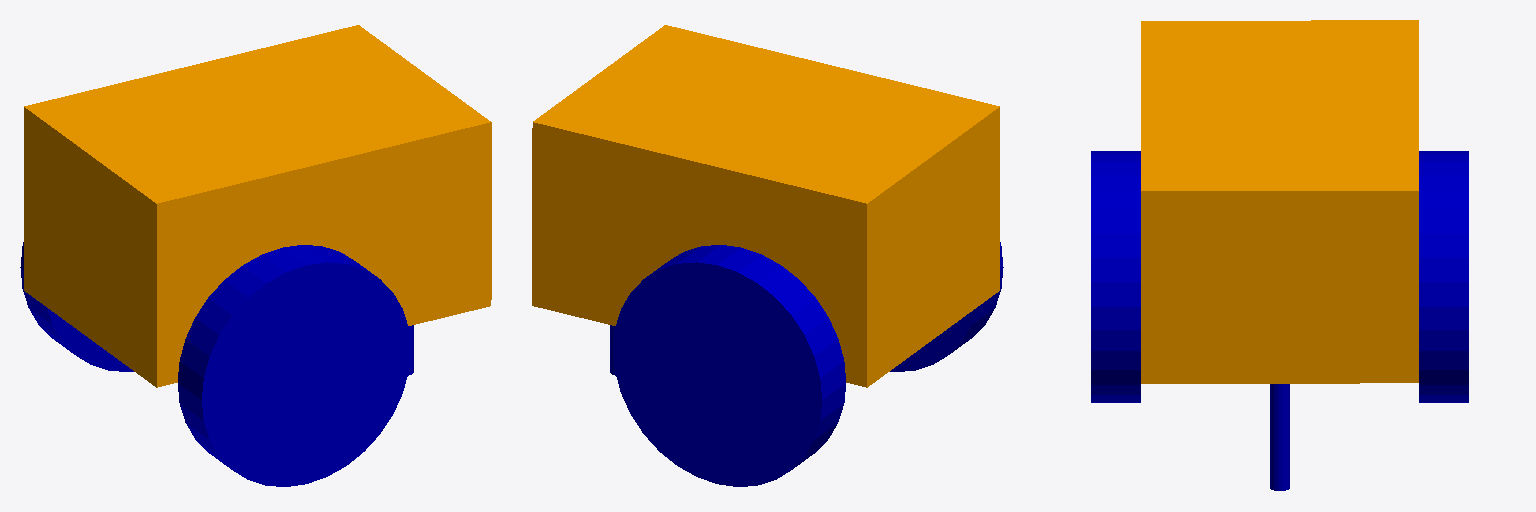
URDF robot description (aubo_i5):
<?xml version="1.0"?>
<robot name="aubo_i5">

<material name="black">
<color rgba="0.25098 0.25098 0.25098 1"/>
</material>

<material name="orange">
<color rgba="1 0.65098 0 1"/>
</material>

<material name="white">
<color rgba="0.68627 0.69804 0.67451 1"/>
</material>

<material name="grey">
<color rgba="0.2 0.2 0.2 1.0"/>
</material>

<material name="blue">
<color rgba="0.0 0.0 0.8 1.0"/>
</material>

<material name="green">
<color rgba="0.0 0.8 0.0 1.0"/>
</material>

<!-- MOVING_BASE_LINK -->
<link
    name="moving_base_Link">
    <inertial>
      <origin
        xyz="0 0 0"
        rpy="0 0 0" />
      <mass
        value="125" />
      <inertia
        ixx="8.504167"
        ixy="0"
        ixz="0"
        iyy="4.988541"
        iyz="0"
        izz="9.817708" />
    </inertial>
    <visual>
      <origin
        xyz="0 0 0"
        rpy="1.571 0 0" />
      <geometry>
        <mesh
          filename="package://urdf_tutorial/meshes/Part1.STL" />
      </geometry>
      <material name="orange"/>
    </visual>
    <collision>
      <origin
        xyz="0 0 0"
        rpy="0 0 0" />
      <geometry>
      <box size="0.8 0.55 0.42"/>
      </geometry>
    </collision>
</link>

  <joint name="base_to_base_joint" type="fixed">
    <parent link="moving_base_Link"/>
    <child link="base_Link"/>
    <origin rpy="0 0 0" xyz="0.4 -0.275 0.42"/>
  </joint>

<!-- LEFT WHEEL -->
<link
    name="left_wheel_Link">

    <inertial>
      <origin
        xyz="0 0 0"
        rpy="1.571 0 0" />
      <mass
        value="1.5" />
      <inertia
        ixx="0.0164583"
        ixy="0"
        ixz="0"
        iyy="0.046875"
        iyz="0"
        izz="0.0164583" />
    </inertial>

    <visual>
      <origin
        xyz="0.0 0.0 0.0"
        rpy="1.571 0 0" />
      <geometry>
        <cylinder length="0.1" radius="0.25"/>
      </geometry>
      <material name="blue"/>
    </visual>
    <collision>
      <origin
        xyz="0 0 0"
        rpy="0 0 0" />
      <geometry>
	<cylinder length="0.1" radius="0.25"/>
      </geometry>
    </collision>
</link>

  <joint name="base_to_left_wheel_joint" type="continuous">
    <axis
      xyz="0.0 1.0 0" />
    <limit
      lower="-3.05"
      upper="3.05"
      effort="145.0"
      velocity="3.30" />
    <parent link="moving_base_Link"/>
    <child link="left_wheel_Link"/>
    <origin rpy="0 0 0" xyz="0.3 -0.6 0.0"/>
  </joint>

<!-- STAND -->
<link
    name="stand_Link">
    <visual>
      <origin
        xyz="0 0 0"
        rpy="0 0 0" />
      <geometry>
	<cylinder length="0.25" radius="0.02"/>
      </geometry>
      <material name="blue"/>
    </visual>
    <collision>
      <origin
        xyz="0 0 0"
        rpy="0 0 0" />
      <geometry>
	<cylinder length="0.25" radius="0.05"/>
      </geometry>
    </collision>
</link>

  <joint name="base_to_stand_joint" type="fixed">
    <parent link="moving_base_Link"/>
    <child link="stand_Link"/>
    <origin rpy="0 0 0" xyz="0.75 -0.275 -0.125"/>
  </joint>

<!-- RIGHT WHEEL -->
<link
    name="right_wheel_Link">
    <inertial>
      <origin
        xyz="0 0 0"
        rpy="1.571 0 0" />
      <mass
        value="1.5" />
      <inertia
        ixx="0.0164583"
        ixy="0"
        ixz="0"
        iyy="0.046875"
        iyz="0"
        izz="0.0164583" />
    </inertial>
    <visual>
      <origin
        xyz="0 0 0"
        rpy="1.571 0 0" />
      <geometry>
	<cylinder length="0.1" radius="0.25"/>
      </geometry>
      <material name="blue"/>
    </visual>
    <collision>
      <origin
        xyz="0 0 0"
        rpy="0 0 0" />
      <geometry>
	<cylinder length="0.1" radius="0.25"/>
      </geometry>
    </collision>
</link>

  <joint name="base_to_right_wheel_joint" type="continuous">
    <axis
      xyz="0 1.0 0" />
    <limit
      lower="-3.05"
      upper="3.05"
      effort="145.0"
      velocity="3.30" />
    <parent link="moving_base_Link"/>
    <child link="right_wheel_Link"/>
    <origin rpy="0 0 0" xyz="0.3 0.05 0.0"/>
  </joint>

<!-- BASE_LINK -->
<link
    name="base_Link">
    <inertial>
      <origin
        xyz="1.3658E-09 -0.00014692 0.01035"
        rpy="0 0 0" />
      <mass
        value="4.3712" />
      <inertia
        ixx="0.00079449"
        ixy="6.5327E-11"
        ixz="-9.6404E-12"
        iyy="0.00079389"
        iyz="1.3115E-06"
        izz="0.0015561" />
    </inertial>
    <visual>
      <origin
        xyz="0 0 0"
        rpy="0 0 0" />
      <geometry>
        <mesh
          filename="package://urdf_tutorial/meshes/base_Link.STL" />
      </geometry>
      <material name="blue"/>
    </visual>
    <collision>
      <origin
        xyz="0 0 0"
        rpy="0 0 0" />
      <geometry>
        <mesh
          filename="package://urdf_tutorial/meshes/base_Link.STL" />
      </geometry>
    </collision>
</link>


<!-- LINK 1 -->
  <link
    name="shoulder_Link">
    <inertial>
      <origin
        xyz="4.2237E-07 0.0063705 -0.014748"
        rpy="0 0 0" />
      <mass
        value="1.4505" />
      <inertia
        ixx="0.0032429"
        ixy="-5.7406E-08"
        ixz="1.9098E-08"
        iyy="0.0031222"
        iyz="0.0002489"
        izz="0.0027718" />
    </inertial>
    <visual>
      <origin
        xyz="0 0 0"
        rpy="0 0 0" />
      <geometry>
        <mesh
          filename="package://urdf_tutorial/meshes/shoulder_Link.STL" />
      </geometry>
      <material name="orange"/>
    </visual>
    <collision>
      <origin
        xyz="0 0 0"
        rpy="0 0 0" />
      <geometry>
        <mesh
          filename="package://urdf_tutorial/meshes/shoulder_Link.STL" />
      </geometry>
    </collision>
</link>

<!-- JOINT: BASE and LINK 1 -->
  <joint
    name="shoulder_joint"
    type="revolute">
    <origin
      xyz="0 0 0.0985"
      rpy="4.1891E-27 1.7441E-42 3.1416" />
    <parent
      link="base_Link" />
    <child
      link="shoulder_Link" />
    <axis
      xyz="0 0 1" />
    <limit
      lower="-3.05"
      upper="3.05"
      effort="145.0"
      velocity="3.30" />
    <dynamics damping="0.0" friction="0.0"/>
</joint>

<!-- LINK &  JOINT 2 -->
<link
    name="s_Link">
    <inertial>
      <origin
        xyz="2.75454867338328E-06 -0.00487873094196599 0.0702855243047658"
        rpy="0 0 0" />
      <mass
        value="0.0933502565288893" />
      <inertia
        ixx="0.00011727398240241"
        ixy="-3.14883393254388E-09"
        ixz="1.43188514648947E-09"
        iyy="0.000120548307556286"
        iyz="1.4054946074709E-05"
        izz="0.000204650958658107" />
    </inertial>
    <visual>
      <origin
        xyz="0 0 0"
        rpy="0 0 0" />
      <geometry>
        <mesh
          filename="package://urdf_tutorial/meshes/s_Link.STL" />
      </geometry>
      <material name="black"/>
    </visual>
    <collision>
      <origin
        xyz="0 0 0"
        rpy="0 0 0" />
      <geometry>
        <mesh
          filename="package://urdf_tutorial/meshes/s_Link.STL" />
      </geometry>
    </collision>
  </link>
  <joint
    name="s_joint"
    type="fixed">
    <origin
      xyz="0 0 0"
      rpy="0 0 0" />
    <parent
      link="shoulder_Link" />
    <child
      link="s_Link" />
    <axis
      xyz="0 0 0" />
</joint>


<!-- LINK &  JOINT 3 -->
<link
    name="upperArm_Link">
    <inertial>
      <origin
        xyz="0.204 4.917E-09 -0.01129"
        rpy="0 0 0" />
      <mass
        value="3.7898" />
      <inertia
        ixx="0.0077566"
        ixy="3.5945E-07"
        ixz="-2.0497E-09"
        iyy="0.13195"
        iyz="-2.5238E-09"
        izz="0.13086" />
    </inertial>
    <visual>
      <origin
        xyz="0 0 0"
        rpy="0 0 0" />
      <geometry>
        <mesh
          filename="package://urdf_tutorial/meshes/upperArm_Link.STL" />
      </geometry>
      <material name="orange"/>
    </visual>
    <collision>
      <origin
        xyz="0 0 0"
        rpy="0 0 0" />
      <geometry>
        <mesh
          filename="package://urdf_tutorial/meshes/upperArm_Link.STL" />
      </geometry>
    </collision>
  </link>
  <joint
    name="upperArm_joint"
    type="revolute">
    <origin
      xyz="0 0.1405 0"
      rpy="-1.5708 -1.5708 0" />
    <parent
      link="shoulder_Link" />
    <child
      link="upperArm_Link" />
    <axis
      xyz="0 0 1" />
    <limit
      lower="-3.05"
      upper="3.05"
      effort="145.0"
      velocity="3.30" />
    <dynamics damping="0.0" friction="0.0"/>
</joint>

<link
    name="f1_Link">
    <inertial>
      <origin
        xyz="0.204000000000002 2.13762226476002E-16 0.0702855243047657"
        rpy="0 0 0" />
      <mass
        value="0.186700513057778" />
      <inertia
        ixx="0.000241096616529171"
        ixy="1.13718913108594E-07"
        ixz="-4.1181754464369E-18"
        iyy="0.00838035188527625"
        iyz="-2.06956333395978E-19"
        izz="0.00855510583920424" />
    </inertial>
    <visual>
      <origin
        xyz="0 0 0"
        rpy="0 0 0" />
      <geometry>
        <mesh
          filename="package://urdf_tutorial/meshes/f1_Link.STL" />
      </geometry>
      <material name="black"/>
    </visual>
    <collision>
      <origin
        xyz="0 0 0"
        rpy="0 0 0" />
      <geometry>
        <mesh
          filename="package://urdf_tutorial/meshes/f1_Link.STL" />
      </geometry>
    </collision>
  </link>
  <joint
    name="f1_joint"
    type="fixed">
    <origin
      xyz="0 0 0"
      rpy="0 0 2.18831867488968E-33" />
    <parent
      link="upperArm_Link" />
    <child
      link="f1_Link" />
    <axis
      xyz="0 0 0" />
  </joint>
  <link
    name="foreArm_Link">
    <inertial>
      <origin
        xyz="0.18437 7.5869E-07 0.11576"
        rpy="0 0 0" />
      <mass
        value="2.2177" />
      <inertia
        ixx="0.00195"
        ixy="-4.753E-07"
        ixz="0.0001589"
        iyy="0.042245"
        iyz="-1.9564E-08"
        izz="0.042131" />
    </inertial>
    <visual>
      <origin
        xyz="0 0 0"
        rpy="0 0 0" />
      <geometry>
        <mesh
          filename="package://urdf_tutorial/meshes/foreArm_Link.STL" />
      </geometry>
      <material name="orange"/>
    </visual>
    <collision>
      <origin
        xyz="0 0 0"
        rpy="0 0 0" />
      <geometry>
        <mesh
          filename="package://urdf_tutorial/meshes/foreArm_Link.STL" />
      </geometry>
    </collision>
  </link>
  <joint
    name="foreArm_joint"
    type="revolute">
    <origin
      xyz="0.408 0 0"
      rpy="-3.1416 0 2.1883E-33" />
    <parent
      link="upperArm_Link" />
    <child
      link="foreArm_Link" />
    <axis
      xyz="0 0 1" />
    <limit
      lower="-3.05"
      upper="3.05"
      effort="145.0"
      velocity="3.30" />
    <dynamics damping="0.0" friction="0.0"/>
  </joint>
  <link
    name="u_Link">
    <inertial>
      <origin
        xyz="0.37977323075608 -1.22707817697109E-07 0.169252804183791"
        rpy="0 0 0" />
      <mass
        value="0.0218152964018118" />
      <inertia
        ixx="1.43539584447989E-05"
        ixy="-1.77714065912396E-09"
        ixz="-1.7435191275915E-06"
        iyy="1.42953809888318E-05"
        iyz="5.24862609165935E-10"
        izz="2.34588114722085E-05" />
    </inertial>
    <visual>
      <origin
        xyz="0 0 0"
        rpy="0 0 0" />
      <geometry>
        <mesh
          filename="package://urdf_tutorial/meshes/u_Link.STL" />
      </geometry>
      <material name="black"/>
    </visual>
    <collision>
      <origin
        xyz="0 0 0"
        rpy="0 0 0" />
      <geometry>
        <mesh
          filename="package://urdf_tutorial/meshes/u_Link.STL" />
      </geometry>
    </collision>
  </link>
  <joint
    name="u_joint"
    type="fixed">
    <origin
      xyz="0 0 0"
      rpy="0 0 1.18505780593039E-46" />
    <parent
      link="foreArm_Link" />
    <child
      link="u_Link" />
    <axis
      xyz="0 0 0" />
  </joint>
  <link
    name="wrist1_Link">
    <inertial>
      <origin
        xyz="5.3024E-07 0.01312 -0.0045695"
        rpy="0 0 0" />
      <mass
        value="0.44685" />
      <inertia
        ixx="0.00048851"
        ixy="3.1165E-09"
        ixz="-1.4582E-09"
        iyy="0.00036127"
        iyz="3.9646E-05"
        izz="0.00046417" />
    </inertial>
    <visual>
      <origin
        xyz="0 0 0"
        rpy="0 0 0" />
      <geometry>
        <mesh
          filename="package://urdf_tutorial/meshes/wrist1_Link.STL" />
      </geometry>
      <material name="orange"/>
    </visual>
    <collision>
      <origin
        xyz="0 0 0"
        rpy="0 0 0" />
      <geometry>
        <mesh
          filename="package://urdf_tutorial/meshes/wrist1_Link.STL" />
      </geometry>
    </collision>
  </link>
  <joint
    name="wrist1_joint"
    type="revolute">
    <origin
      xyz="0.376 0 0.019"
      rpy="3.1416 0 1.5708" />
    <parent
      link="foreArm_Link" />
    <child
      link="wrist1_Link" />
    <axis
      xyz="0 0 1" />
    <limit
      lower="-3.05"
      upper="3.05"
      effort="27.0"
      velocity="3.96" />
    <dynamics damping="0.0" friction="0.0"/>
  </joint>
  <link
    name="w1_Link">
    <inertial>
      <origin
        xyz="1.22352240257257E-07 -0.0477530913932177 0.003773230745739"
        rpy="0 0 0" />
      <mass
        value="0.021815296723867" />
      <inertia
        ixx="1.42953809595742E-05"
        ixy="5.24900316883739E-10"
        ixz="1.77713720775022E-09"
        iyy="2.34588116364367E-05"
        iyz="1.74351913267393E-06"
        izz="1.43539586605687E-05" />
    </inertial>
    <visual>
      <origin
        xyz="0 0 0"
        rpy="0 0 0" />
      <geometry>
        <mesh
          filename="package://urdf_tutorial/meshes/w1_Link.STL" />
      </geometry>
      <material name="black"/>
    </visual>
    <collision>
      <origin
        xyz="0 0 0"
        rpy="0 0 0" />
      <geometry>
        <mesh
          filename="package://urdf_tutorial/meshes/w1_Link.STL" />
      </geometry>
    </collision>
  </link>
  <joint
    name="w1_joint"
    type="fixed">
    <origin
      xyz="0 0 0"
      rpy="0 0 0" />
    <parent
      link="wrist1_Link" />
    <child
      link="w1_Link" />
    <axis
      xyz="0 0 0" />
  </joint>
  <link
    name="wrist2_Link">
    <inertial>
      <origin
        xyz="-5.3024E-07 -0.01312 -0.0045695"
        rpy="0 0 0" />
      <mass
        value="0.44685" />
      <inertia
        ixx="0.00048851"
        ixy="3.1165E-09"
        ixz="1.4582E-09"
        iyy="0.00036127"
        iyz="-3.9646E-05"
        izz="0.00046417" />
    </inertial>
    <visual>
      <origin
        xyz="0 0 0"
        rpy="0 0 0" />
      <geometry>
        <mesh
          filename="package://urdf_tutorial/meshes/wrist2_Link.STL" />
      </geometry>
      <material name="orange"/>
    </visual>
    <collision>
      <origin
        xyz="0 0 0"
        rpy="0 0 0" />
      <geometry>
        <mesh
          filename="package://urdf_tutorial/meshes/wrist2_Link.STL" />
      </geometry>
    </collision>
  </link>
  <joint
    name="wrist2_joint"
    type="revolute">
    <origin
      xyz="0 0.1025 0"
      rpy="-1.5708 -6.1062E-16 3.1203E-16" />
    <parent
      link="wrist1_Link" />
    <child
      link="wrist2_Link" />
    <axis
      xyz="0 0 1" />
    <limit
      lower="-3.05"
      upper="3.05"
      effort="27.0"
      velocity="3.96" />
    <dynamics damping="0.0" friction="0.0"/>
  </joint>
  <link
    name="w2_Link">
    <inertial>
      <origin
        xyz="-1.22707819732575E-07 0.0477530913284884 0.00377323075609326"
        rpy="0 0 0" />
      <mass
        value="0.0218152964018119" />
      <inertia
        ixx="1.42953809888321E-05"
        ixy="5.24862609243349E-10"
        ixz="-1.77714065894216E-09"
        iyy="2.34588114722085E-05"
        iyz="-1.74351912759145E-06"
        izz="1.4353958444799E-05" />
    </inertial>
    <visual>
      <origin
        xyz="0 0 0"
        rpy="0 0 0" />
      <geometry>
        <mesh
          filename="package://urdf_tutorial/meshes/w2_Link.STL" />
      </geometry>
      <material name="black"/>
    </visual>
    <collision>
      <origin
        xyz="0 0 0"
        rpy="0 0 0" />
      <geometry>
        <mesh
          filename="package://urdf_tutorial/meshes/w2_Link.STL" />
      </geometry>
    </collision>
  </link>
  <joint
    name="w2_joint"
    type="fixed">
    <origin
      xyz="0 0 0"
      rpy="0 -1.16915489293235E-32 0" />
    <parent
      link="wrist2_Link" />
    <child
      link="w2_Link" />
    <axis
      xyz="0 0 0" />
  </joint>
  <link
    name="wrist3_Link">
    <inertial>
      <origin
        xyz="-1.0787E-10 -3.6569E-05 -0.018611"
        rpy="0 0 0" />
      <mass
        value="0.13571" />
      <inertia
        ixx="5.9222E-05"
        ixy="3.4848E-13"
        ixz="1.9939E-13"
        iyy="5.9429E-05"
        iyz="-8.8081E-08"
        izz="9.5238E-05" />
    </inertial>
    <visual>
      <origin
        xyz="0 0 0"
        rpy="0 0 0" />
      <geometry>
        <mesh
          filename="package://urdf_tutorial/meshes/wrist3_Link.STL" />
      </geometry>
      <material name="black"/>
    </visual>
    <collision>
      <origin
        xyz="0 0 0"
        rpy="0 0 0" />
      <geometry>
        <mesh
          filename="package://urdf_tutorial/meshes/wrist3_Link.STL" />
      </geometry>
    </collision>
  </link>
  <joint
    name="wrist3_joint"
    type="revolute">
    <origin
      xyz="0 -0.094 0"
      rpy="1.5708 3.1203E-16 0" />
    <parent
      link="wrist2_Link" />
    <child
      link="wrist3_Link" />
    <axis
      xyz="0 0 -1" />
    <limit
      lower="-3.05"
      upper="3.05"
      effort="27.0"
      velocity="3.96" />
    <dynamics damping="0.0" friction="0.0"/>
  </joint>
  <link 
     name="ee_Link">
     <collision>
       <geometry>
          <box size="0.01 0.01 0.01"/>
       </geometry>
       <origin 
          rpy="0 0 0" 
          xyz="0 0 0.05"/>
     </collision>
  </link>
  <joint 
     name="ee_fixed_joint" 
     type="fixed">
     <parent 
	link="wrist3_Link" />
     <child 
	link = "ee_Link" />
     <origin 
        xyz="0.0 0.0 0.0" 
        rpy="0.0 0.0 0.0" />
  </joint>

  <joint name="left_gripper_joint" type="revolute">
    <axis xyz="0 0 1"/>
    <limit effort="1000.0" lower="0.0" upper="0.548" velocity="0.5"/>
    <origin rpy="-1.571 -1.571 0" xyz="0 0 0"/>
    <parent link="wrist3_Link"/>
    <child link="left_gripper_link"/>
  </joint>

  <link name="left_gripper_link">
    <visual>
      <origin rpy="0.0 0 0" xyz="0 0 0"/>
      <geometry>
        <mesh filename="package://urdf_tutorial/meshes/l_finger.dae"/>
      </geometry>
    </visual>
    <collision>
      <geometry>
        <mesh filename="package://urdf_tutorial/meshes/l_finger.dae"/>
      </geometry>
      <origin rpy="0.0 0 0" xyz="0 0 0"/>
    </collision>
    <inertial>
      <mass value="0.05"/>
      <inertia ixx="1.0" ixy="0.0" ixz="0.0" iyy="1.0" iyz="0.0" izz="1.0"/>
    </inertial>
  </link>

  <link name="left_tip">
    <visual>
      <origin rpy="0.0 0 0" xyz="0.09137 0.00495 0"/>
      <geometry>
        <mesh filename="package://urdf_tutorial/meshes/l_finger_tip.dae"/>
      </geometry>
    </visual>
    <collision>
      <geometry>
        <mesh filename="package://urdf_tutorial/meshes/l_finger_tip.dae"/>
      </geometry>
      <origin rpy="0.0 0 0" xyz="0.09137 0.00495 0"/>
    </collision>
    <inertial>
      <mass value="0.05"/>
      <inertia ixx="1.0" ixy="0.0" ixz="0.0" iyy="1.0" iyz="0.0" izz="1.0"/>
    </inertial>
  </link>

  <joint name="right_gripper_joint" type="revolute">
    <axis xyz="0 0 -1"/>
    <limit effort="1000.0" lower="-0.548" upper="0.0" velocity="0.5"/>
    <origin rpy="1.571 -1.571 0" xyz="0 0 0"/>
    <parent link="wrist3_Link"/>
    <child link="right_gripper_link"/>
  </joint>

  <link name="right_gripper_link">
    <visual>
      <origin rpy="0 0 0" xyz="0 0 0"/>
      <geometry>
        <mesh filename="package://urdf_tutorial/meshes/l_finger.dae"/>
      </geometry>
    </visual>
    <collision>
      <geometry>
        <mesh filename="package://urdf_tutorial/meshes/l_finger.dae"/>
      </geometry>
      <origin rpy="-3.1415 0 0" xyz="0 0 0"/>
    </collision>
    <inertial>
      <mass value="0.05"/>
      <inertia ixx="1.0" ixy="0.0" ixz="0.0" iyy="1.0" iyz="0.0" izz="1.0"/>
    </inertial>
  </link>

<link name="right_tip">
    <visual>
      <origin rpy="0 0 0" xyz="0.09137 0.00495 0"/>
      <geometry>
        <mesh filename="package://urdf_tutorial/meshes/l_finger_tip.dae"/>
      </geometry>
    </visual>
    <collision>
      <geometry>
        <mesh filename="package://urdf_tutorial/meshes/l_finger_tip.dae"/>
      </geometry>
      <origin rpy="-3.1415 0 0" xyz="0.09137 0.00495 0"/>
    </collision>
    <inertial>
      <mass value="0.05"/>
      <inertia ixx="1.0" ixy="0.0" ixz="0.0" iyy="1.0" iyz="0.0" izz="1.0"/>
    </inertial>
  </link>

  <joint name="right_tip_joint" type="fixed">
    <parent link="right_gripper_link"/>
    <child link="right_tip"/>
  </joint>


  <joint name="left_tip_joint" type="fixed">
    <parent link="left_gripper_link"/>
    <child link="left_tip"/>
  </joint>

</robot>

--- What the picture shows (computed from the rendered views, not written in the file) ---
The picture shows the robot from 3 angles, left to right: view 1: azimuth 30°, elevation 25°; view 2: azimuth 150°, elevation 25°; view 3: azimuth 270°, elevation 25°; orthographic projection.
Model aubo_i5 with 21 links and 20 joints (8 revolute, 2 continuous, 10 fixed), rooted at moving_base_Link, posed all joints at 0.
Visible links, largest first — view 1: moving_base_Link, left_wheel_Link, right_wheel_Link; view 2: moving_base_Link, right_wheel_Link, left_wheel_Link; view 3: moving_base_Link, left_wheel_Link, right_wheel_Link, stand_Link.
Link boxes in pixels (x1,y1,x2,y2): moving_base_Link: [24, 25, 491, 387]; left_wheel_Link: [178, 245, 410, 486]; right_wheel_Link: [20, 242, 133, 371]; moving_base_Link: [532, 25, 999, 387]; right_wheel_Link: [613, 245, 845, 486]; left_wheel_Link: [890, 242, 1003, 371]; moving_base_Link: [1141, 20, 1418, 383]; left_wheel_Link: [1091, 151, 1140, 402]; right_wheel_Link: [1419, 151, 1468, 402]; stand_Link: [1270, 384, 1289, 490].
Bounding box of the posed robot: 0.8 × 0.7501 × 0.67 m (x, y, z).
1 mesh visuals loaded from 15 distinct referenced files (1 binary STL); not drawn: 16 (reference not matched to a file when rendering).